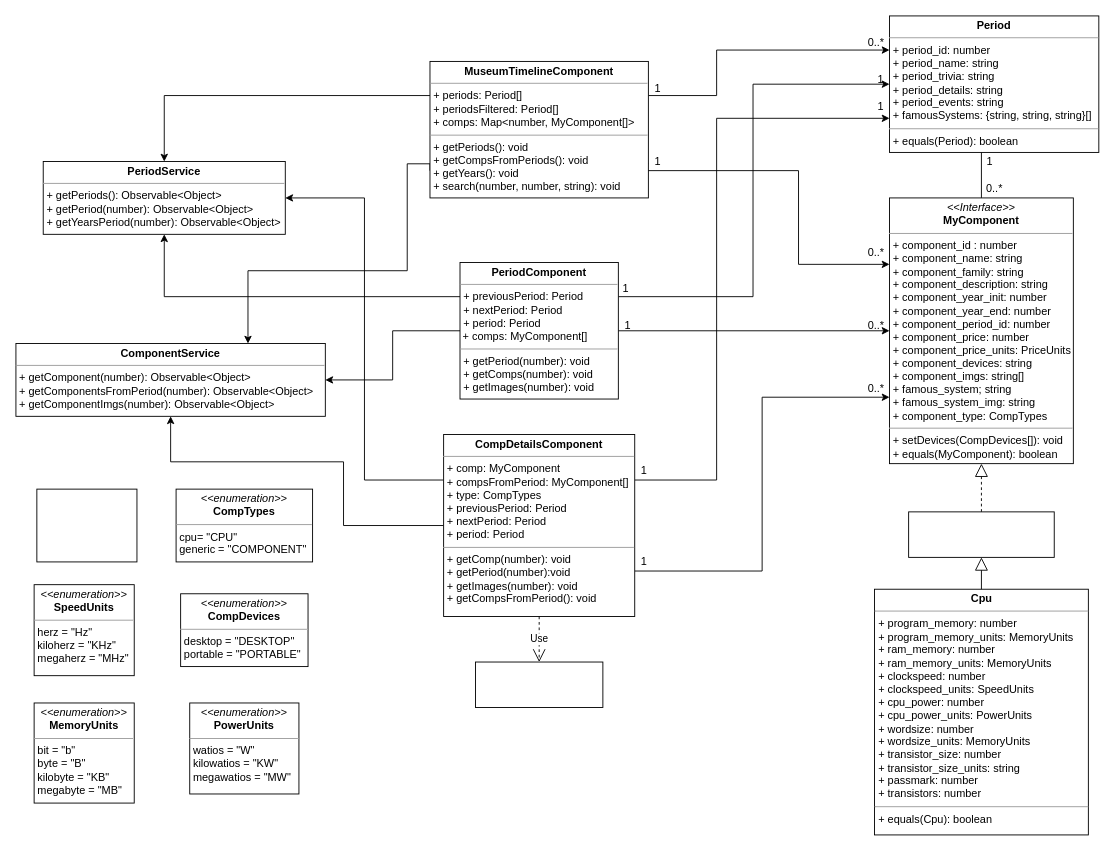
This 1115x851 diagram has some shape labels left out. Each missing label, with the centre of its shape:
<<enumeration>> PriceUnits euro= "€ " dolar = "$": (x=86, y=525)
CpuDetailsComponent + comp: Cpu: (x=539, y=684)
GenericComp: (x=981, y=534)
